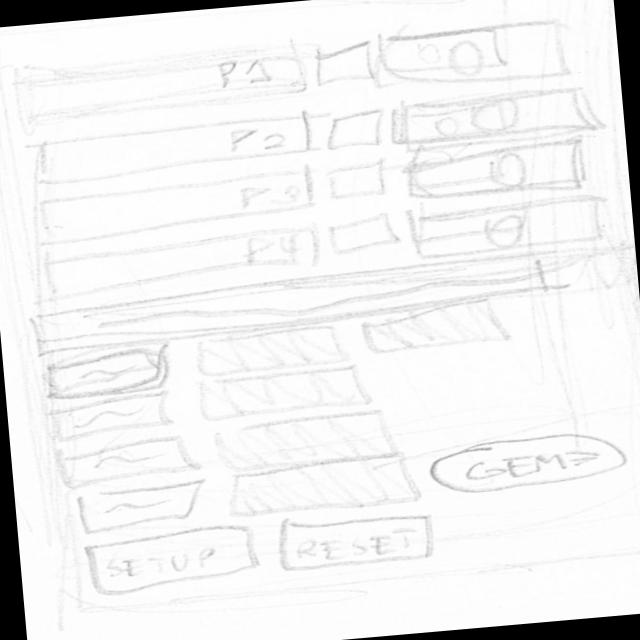button: (426, 422, 640, 505), (82, 519, 264, 601), (270, 505, 454, 581)
input: (35, 341, 187, 407), (38, 434, 205, 491), (63, 476, 211, 531), (49, 395, 180, 441)
